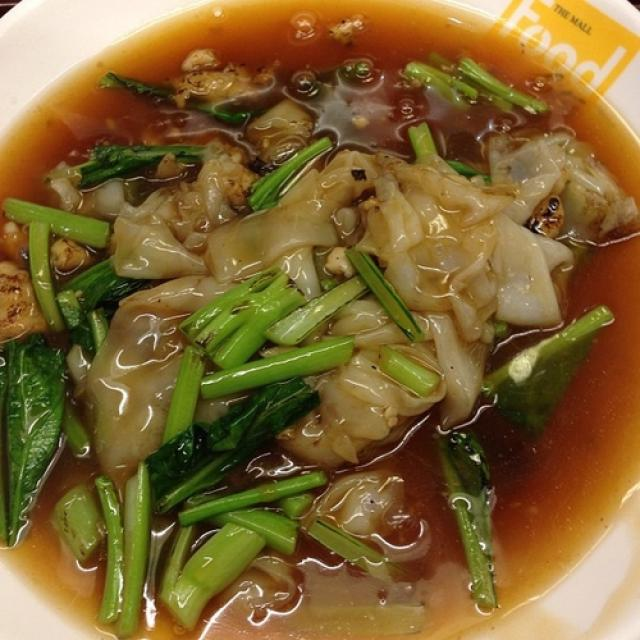面条主食: (18, 23, 616, 618)
